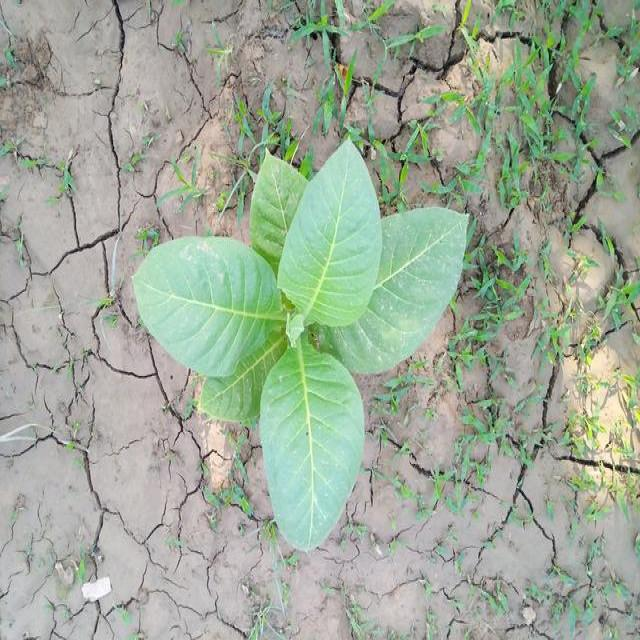crop: (146, 155, 467, 547)
